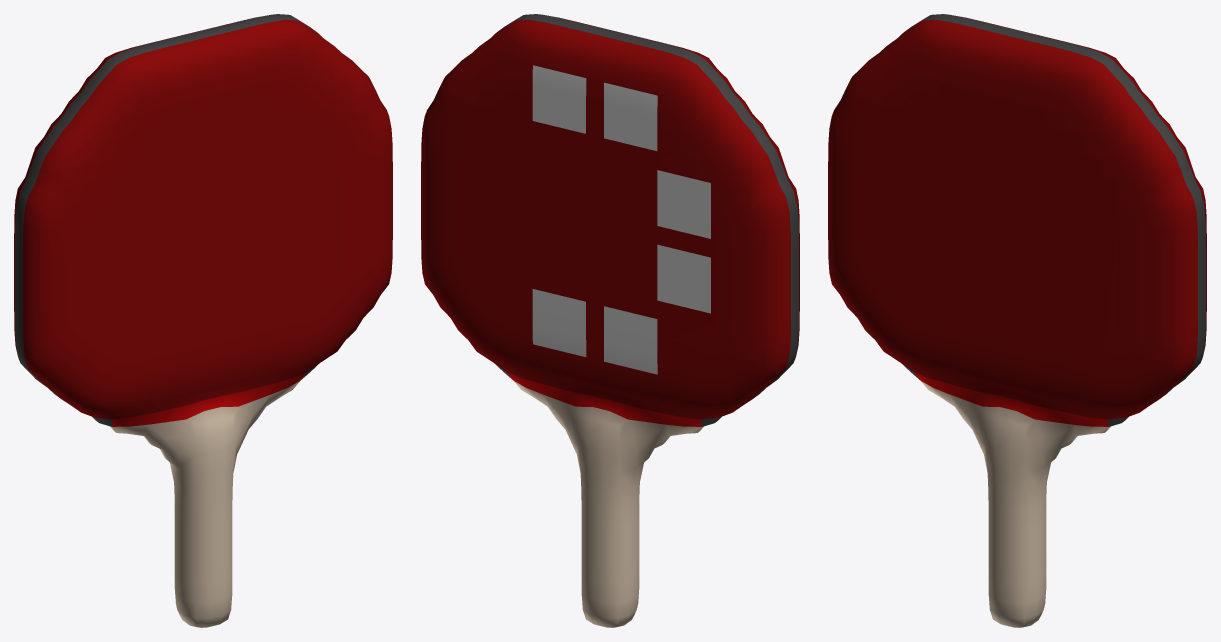
3 views of the same model, side by side, from view 1: azimuth 30°, elevation 25°; view 2: azimuth 150°, elevation 25°; view 3: azimuth 330°, elevation 25° (orthographic).
Bounding box in the file's own units: 1.04 × 1.58 × 0.15.
